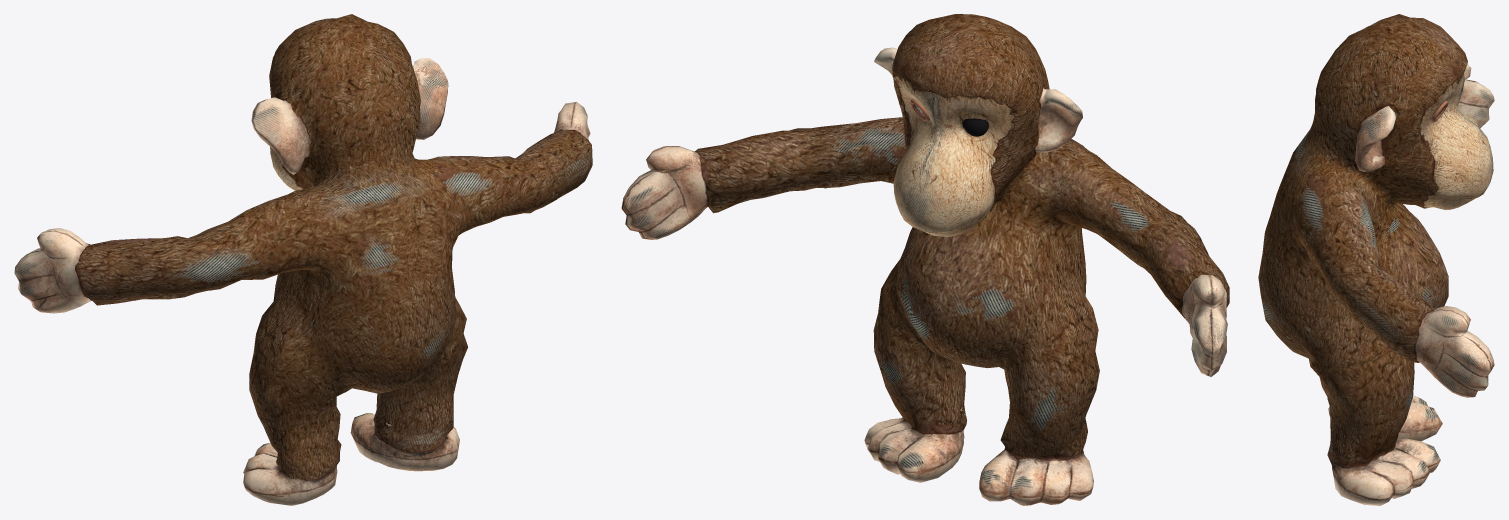
Rendered from doll_monkey.dae.
3 renders of one model, left to right at view 1: azimuth 30°, elevation 25°; view 2: azimuth 150°, elevation 25°; view 3: azimuth 270°, elevation 25°, orthographic. The views are drawn at different scales.
Visible parts, largest first — view 1: retopo1_polySurface1; view 2: retopo1_polySurface1; view 3: retopo1_polySurface1.
Part boxes in pixels (x1,y1,x2,y2): retopo1_polySurface1: (14,14,592,505); retopo1_polySurface1: (621,14,1229,505); retopo1_polySurface1: (1258,14,1494,505).
Size of the model in its own units: 67.46 by 50.51 by 24.62.
